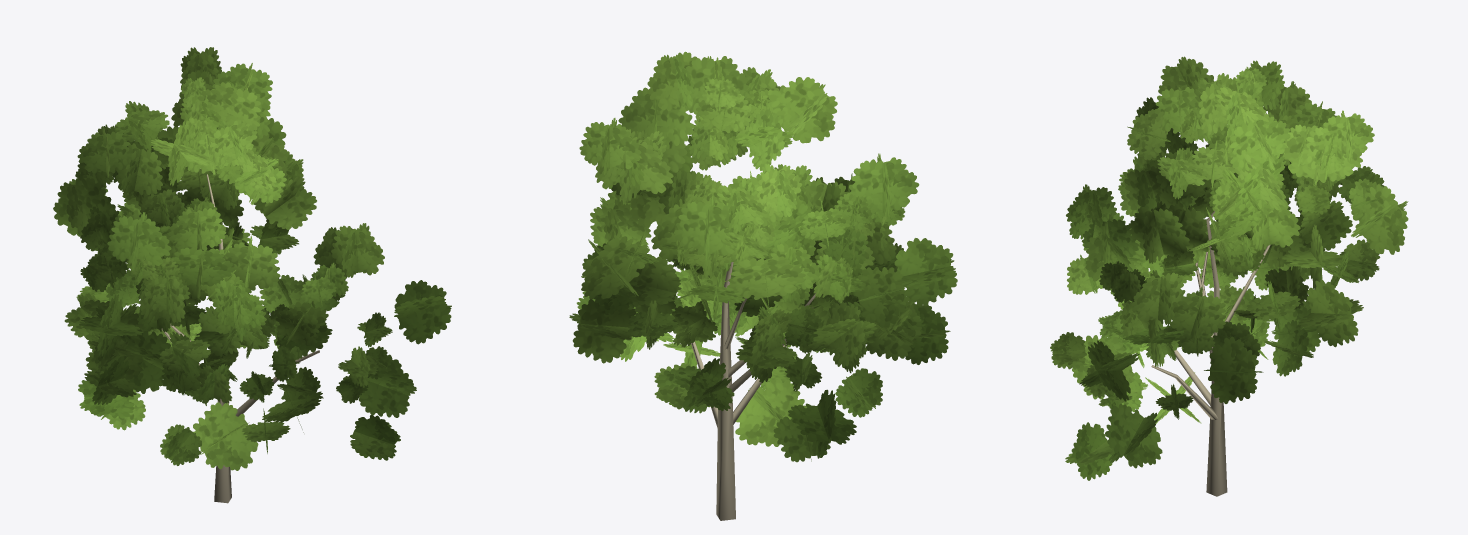
Rendered from platano-muybajo.glb.
3 renders of one model, left to right at view 1: azimuth 30°, elevation 25°; view 2: azimuth 150°, elevation 25°; view 3: azimuth 270°, elevation 25°, orthographic. The views are drawn at different scales.
Parts seen in each view (by area): view 1: platano; view 2: platano; view 3: platano.
Boxes of the visible parts, bbox=[...] form: platano: bbox=[53, 47, 451, 503]; platano: bbox=[569, 51, 957, 520]; platano: bbox=[1050, 56, 1408, 496].
Size of the model in its own units: 14.4 by 14.66 by 12.33.
Materials: 2 (1 with a texture image).
